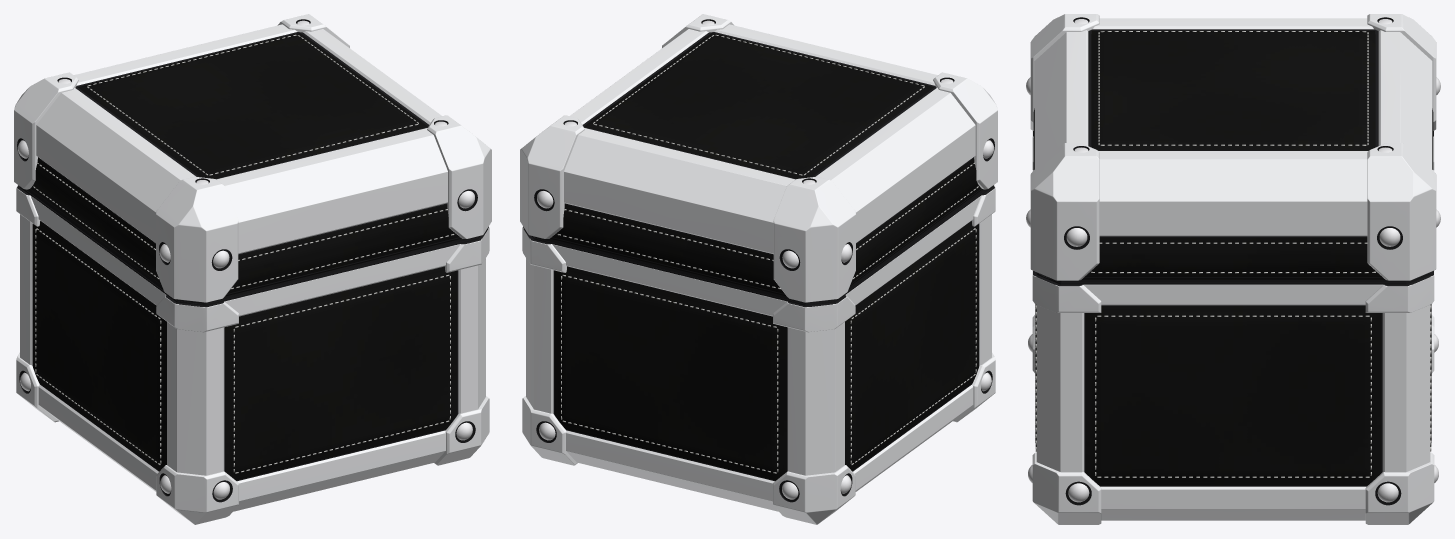
The model's file is case_leather.glb.
3 views of the same model, side by side, from view 1: azimuth 30°, elevation 25°; view 2: azimuth 150°, elevation 25°; view 3: azimuth 270°, elevation 25° (orthographic). The views are drawn at different scales.
Visible parts, largest first — view 1: Shell_Lid, Shell_Base, LeatherBody, LeatherLid.004, LeatherBody.003, LeatherLid, LeatherLid.003, LeatherLidStitch.004, LeatherBodyStitch, LeatherBodyStitch.003, LeatherLidStitch; view 2: Shell_Lid, Shell_Base, LeatherBody.002, LeatherLid.004, LeatherBody.003, LeatherLid.002, LeatherLid.003, LeatherLidStitch.004, LeatherBodyStitch.002, LeatherBodyStitch.003, LeatherLidStitch.002; view 3: Shell_Lid, LeatherBody.001, Shell_Base, LeatherLid.004, LeatherLid.001, LeatherBodyStitch.001, LeatherLidStitch.004, LeatherLidStitch.001.
Part boxes in pixels (<box>): Shell_Lid: <box>14,14,491,303</box>; Shell_Base: <box>16,185,489,524</box>; LeatherBody: <box>225,267,457,480</box>; LeatherLid.004: <box>78,33,427,178</box>; LeatherBody.003: <box>33,221,166,470</box>; LeatherLid: <box>225,204,461,296</box>; LeatherLid.003: <box>30,158,161,285</box>; LeatherLidStitch.004: <box>87,34,418,175</box>; LeatherBodyStitch: <box>233,274,450,473</box>; LeatherBodyStitch.003: <box>35,228,161,464</box>; LeatherLidStitch: <box>231,209,454,289</box>; Shell_Lid: <box>520,14,997,303</box>; Shell_Base: <box>522,185,995,524</box>; LeatherBody.002: <box>554,267,786,480</box>; LeatherLid.004: <box>584,33,933,178</box>; LeatherBody.003: <box>845,221,978,470</box>; LeatherLid.002: <box>550,204,786,296</box>; LeatherLid.003: <box>850,158,981,285</box>; LeatherLidStitch.004: <box>593,34,924,175</box>; LeatherBodyStitch.002: <box>561,274,778,473</box>; LeatherBodyStitch.003: <box>850,228,976,464</box>; LeatherLidStitch.002: <box>557,209,780,289</box>; Shell_Lid: <box>1026,14,1440,282</box>; LeatherBody.001: <box>1085,306,1381,485</box>; Shell_Base: <box>1028,131,1438,524</box>; LeatherLid.004: <box>1091,30,1375,150</box>; LeatherLid.001: <box>1082,237,1384,279</box>; LeatherBodyStitch.001: <box>1095,315,1371,477</box>; LeatherLidStitch.004: <box>1098,31,1368,145</box>; LeatherLidStitch.001: <box>1091,242,1375,273</box>.
Bounding box in the file's own units: 1 × 0.9773 × 1.
6 materials, 1 textured.
